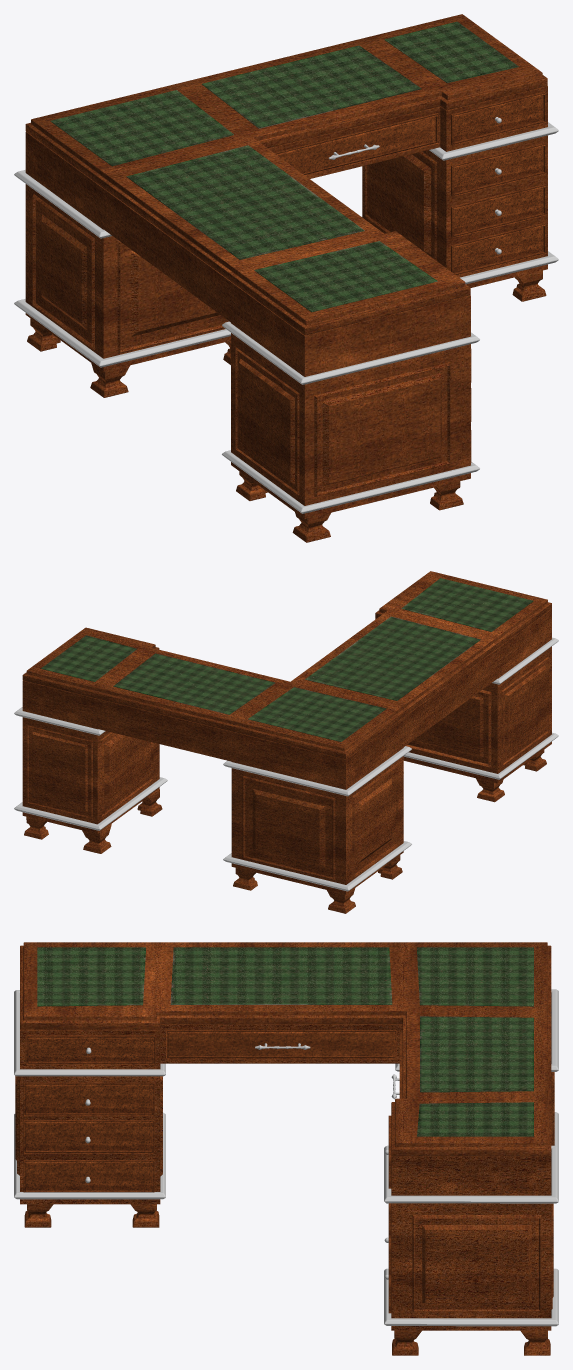
Rendered from table.fbx.
The picture shows the model from 3 angles, top to bottom: view 1: azimuth 30°, elevation 25°; view 2: azimuth 150°, elevation 25°; view 3: azimuth 270°, elevation 25°; orthographic projection. The views are drawn at different scales.
Visible parts, largest first — view 1: Table, Draw5, Draw3, Draw2, Draw1, Draw4; view 2: Table; view 3: Table, Draw6, Draw8, Draw9, Draw10, Draw7.
Part boxes in pixels (<box>): Table: <box>14,14,558,542</box>; Draw5: <box>274,113,438,175</box>; Draw3: <box>451,184,546,238</box>; Draw2: <box>451,142,546,196</box>; Draw1: <box>451,91,546,145</box>; Draw4: <box>451,222,546,275</box>; Table: <box>14,571,558,913</box>; Table: <box>14,942,558,1355</box>; Draw6: <box>166,1030,396,1059</box>; Draw8: <box>23,1062,154,1116</box>; Draw9: <box>23,1120,154,1153</box>; Draw10: <box>23,1160,154,1192</box>; Draw7: <box>25,1035,155,1064</box>.
Bounding box in the file's own units: 586 × 276 × 640.
